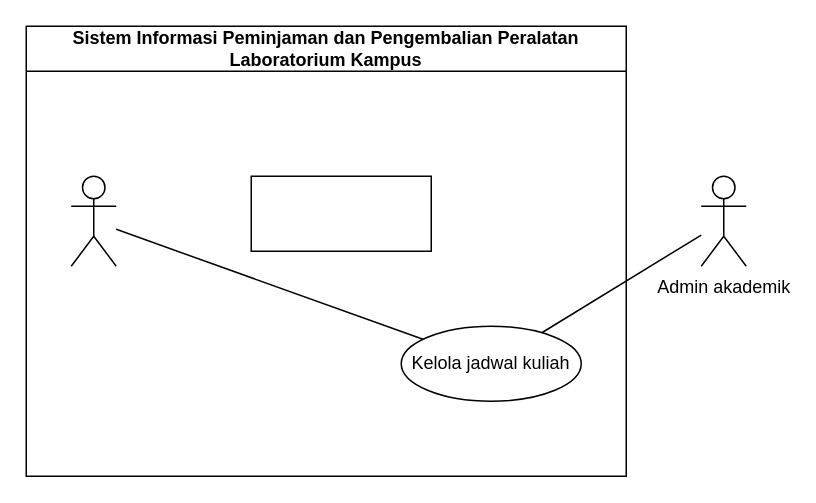
Some shapes in this 816 by 503 pixel diagram are drawn without their labels. The shapes that lost their labels are listed below. From the top down, each one's centre as x and y in pixels, then its label:
At pixel 93 220: "Mahasiswa".
At pixel 340 213: "Lihat jadwal kuliah".
